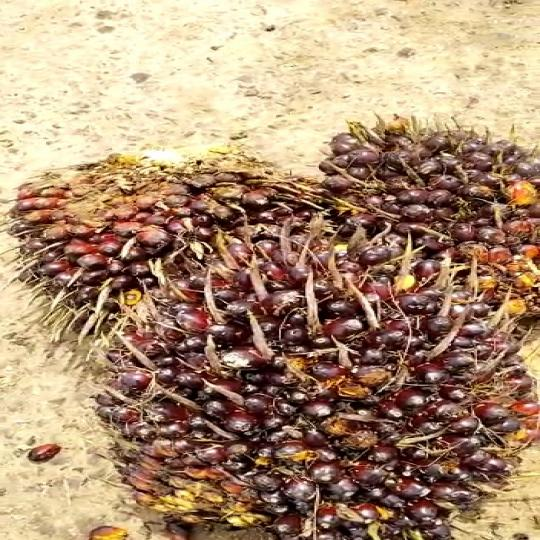kurang masak: (81, 227, 537, 540), (0, 147, 297, 313), (320, 110, 540, 322)
